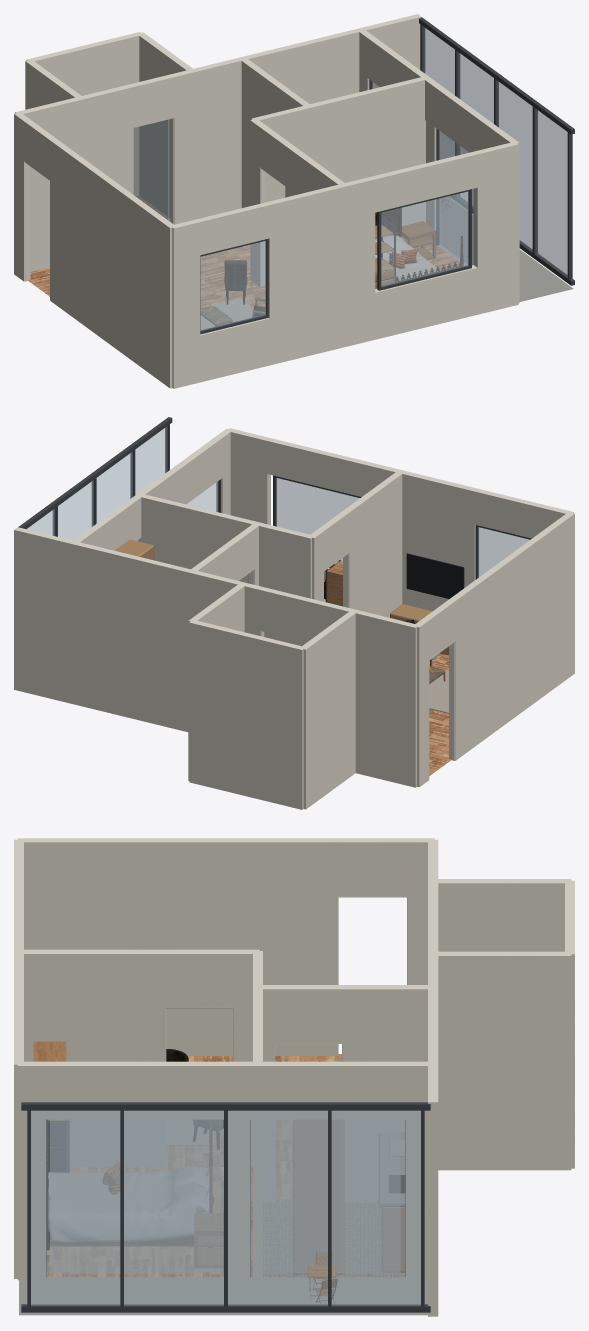
3 renders of one model, top to bottom at view 1: azimuth 30°, elevation 25°; view 2: azimuth 150°, elevation 25°; view 3: azimuth 270°, elevation 25°, orthographic. The views are drawn at different scales.
Visible parts, largest first — view 1: OuterWest, OuterNorth.003, OuterSouthB, BedSouth, BalconyGlass, OuterNorth.006, BedroomWindowGlass, OuterNorth.004, LivingWindowGlass, OuterNorth, BathSouth, BathroomTop.001 (+33 smaller); view 2: OuterSouthB, OuterWest, BathSouth, OuterSouthA, BedSouth, BathWest, OuterNorth.003, BedWest.001, BalconyGlass, OuterNorth.005, OuterNorth.006, BedroomWindowGlass (+24 smaller); view 3: BalconyGlass, OuterWest, BathEast, BalDoorGlass1, BalDoorGlass2, BedWest.001, BalconyFloor, GothicBed_01, KitchenWest.002, BalconyDivider.002, BathWest, BalconyDivider.004 (+31 smaller).
Part boxes in pixels (x1=…): OuterWest: x1=50, y1=139, x2=175, y2=388; OuterNorth.003: x1=268, y1=177, x2=375, y2=364; OuterSouthB: x1=192, y1=14, x2=421, y2=219; BedSouth: x1=251, y1=77, x2=425, y2=225; BalconyGlass: x1=423, y1=26, x2=567, y2=276; OuterNorth.006: x1=473, y1=141, x2=518, y2=314; BedroomWindowGlass: x1=381, y1=191, x2=468, y2=286; OuterNorth.004: x1=374, y1=265, x2=477, y2=339; LivingWindowGlass: x1=200, y1=241, x2=265, y2=330; OuterNorth: x1=170, y1=219, x2=200, y2=388; BathSouth: x1=26, y1=32, x2=142, y2=195; BathroomTop.001: x1=81, y1=85, x2=133, y2=194; OuterSouthB: x1=14, y1=527, x2=243, y2=731; OuterWest: x1=449, y1=512, x2=574, y2=760; BathSouth: x1=189, y1=620, x2=305, y2=809; OuterSouthA: x1=354, y1=609, x2=416, y2=787; BedSouth: x1=137, y1=494, x2=312, y2=645; BathWest: x1=300, y1=610, x2=357, y2=809; OuterNorth.003: x1=369, y1=463, x2=477, y2=611; BedWest.001: x1=343, y1=471, x2=402, y2=617; BalconyGlass: x1=27, y1=426, x2=167, y2=540; OuterNorth.005: x1=265, y1=437, x2=373, y2=496; OuterNorth.006: x1=227, y1=428, x2=270, y2=524; BedroomWindowGlass: x1=276, y1=478, x2=359, y2=563; BalconyGlass: x1=31, y1=1110, x2=420, y2=1305; OuterWest: x1=17, y1=838, x2=337, y2=1055; BathEast: x1=431, y1=951, x2=571, y2=1170; BalDoorGlass1: x1=50, y1=1120, x2=222, y2=1273; BalDoorGlass2: x1=263, y1=1120, x2=400, y2=1273; BedWest.001: x1=17, y1=949, x2=165, y2=1166; BalconyFloor: x1=19, y1=1277, x2=427, y2=1315; GothicBed_01: x1=47, y1=1120, x2=213, y2=1249; KitchenWest.002: x1=342, y1=985, x2=434, y2=1201; BalconyDivider.002: x1=43, y1=1061, x2=229, y2=1119; BathWest: x1=431, y1=879, x2=571, y2=951; BalconyDivider.004: x1=247, y1=1061, x2=408, y2=1119.
Bounding box in the file's own units: 7.42 × 2.8 × 6.64.
Materials: 25 (15 with a texture image).
